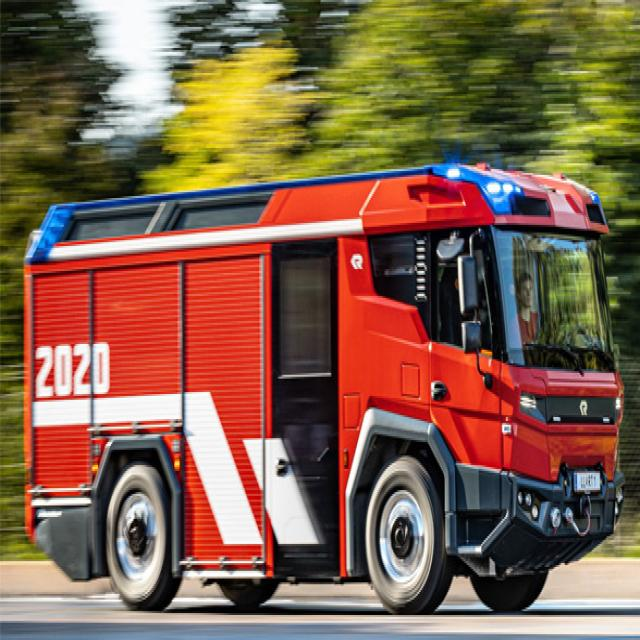emergency: (25, 161, 625, 612)
